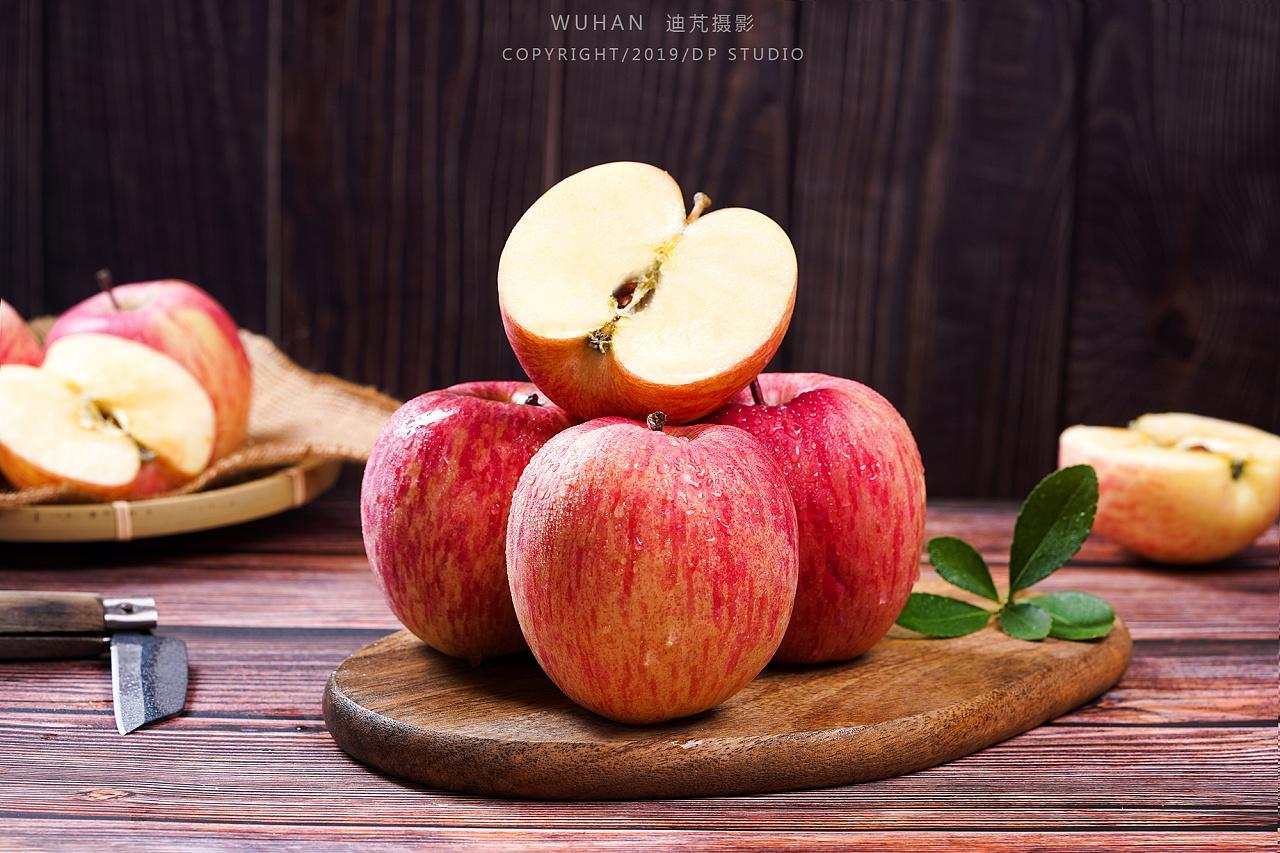apple: (500, 416, 798, 720), (355, 381, 573, 664)
